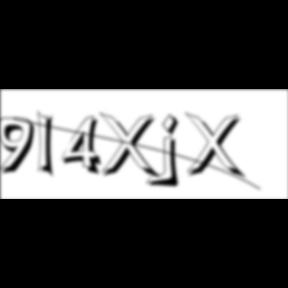4: (62, 115, 108, 179)
9: (0, 117, 42, 177)
X: (99, 112, 163, 182), (185, 112, 249, 182)
j: (160, 113, 186, 191)
l: (38, 108, 60, 182)
